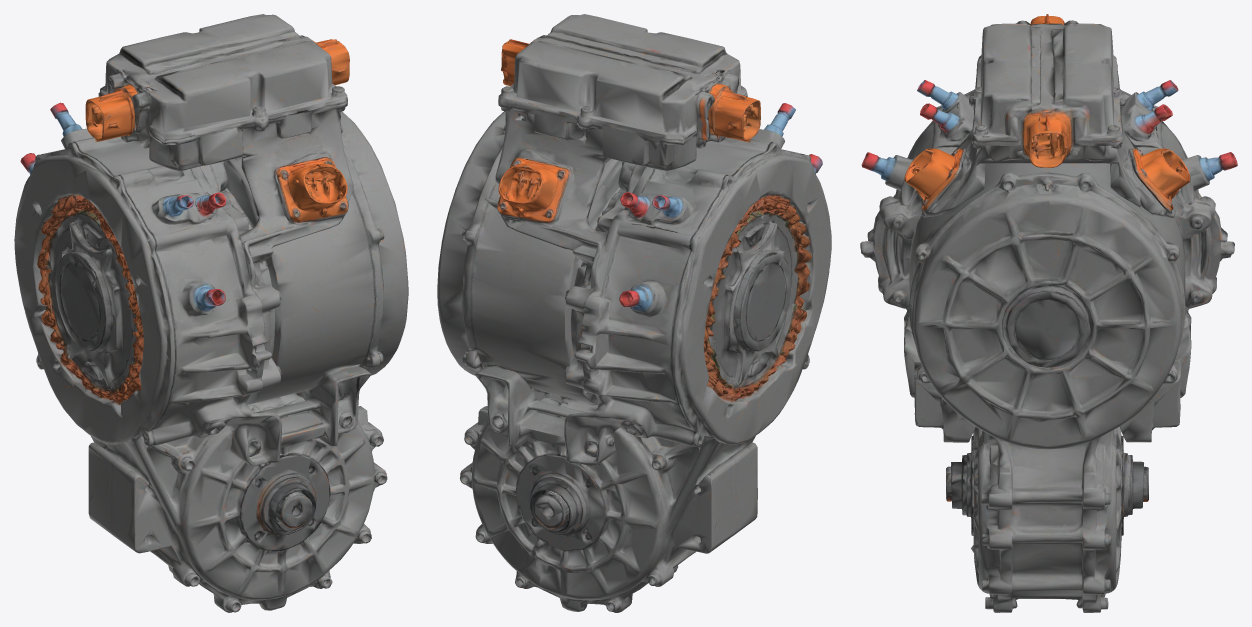
File: drivetrain-lite.glb
3 renders of one model, left to right at view 1: azimuth 30°, elevation 25°; view 2: azimuth 150°, elevation 25°; view 3: azimuth 270°, elevation 25°, orthographic. The views are drawn at different scales.
Size of the model in its own units: 1.01 by 1.9 by 1.23.
1 material, 1 textured.
